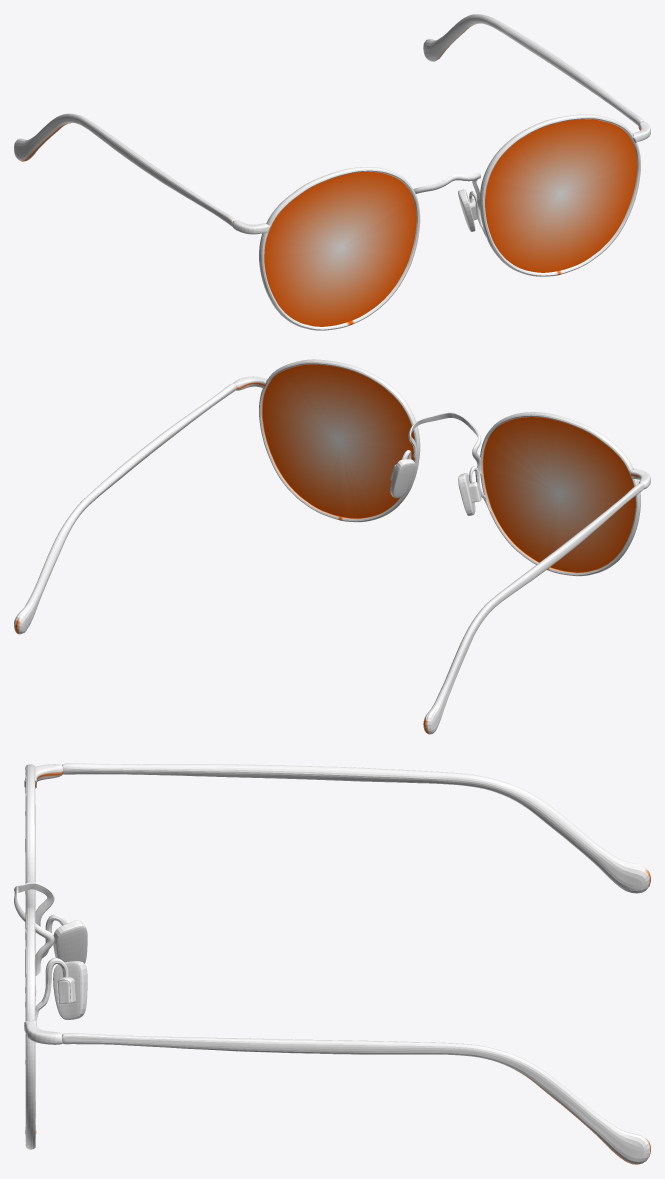
The model's file is glasses02.obj.
The picture shows the model from 3 angles, top to bottom: view 1: azimuth 30°, elevation 25°; view 2: azimuth 150°, elevation 25°; view 3: azimuth 270°, elevation 25°; orthographic projection. The views are drawn at different scales.
Parts seen in each view (by area): view 1: obj0, obj3, obj1, obj4, obj2, obj5; view 2: obj0, obj3, obj1, obj2, obj5, obj4; view 3: obj3, obj1, obj2, obj5, obj4.
Part boxes in pixels (left/top/right/bottom): obj0: left=264, top=119, right=637, bottom=326; obj3: left=14, top=14, right=643, bottom=226; obj1: left=259, top=114, right=640, bottom=330; obj4: left=232, top=121, right=650, bottom=234; obj2: left=458, top=189, right=485, bottom=236; obj5: left=413, top=173, right=480, bottom=210; obj0: left=262, top=364, right=635, bottom=572; obj3: left=14, top=383, right=644, bottom=734; obj1: left=259, top=359, right=640, bottom=576; obj2: left=390, top=450, right=490, bottom=515; obj5: left=408, top=412, right=481, bottom=473; obj4: left=233, top=376, right=650, bottom=489; obj3: left=62, top=763, right=650, bottom=1164; obj1: left=25, top=764, right=36, bottom=1149; obj2: left=35, top=914, right=87, bottom=1021; obj5: left=14, top=882, right=54, bottom=975; obj4: left=24, top=764, right=63, bottom=1044.
Bounding box in the file's own units: 75.3 × 26.8 × 72.86.
Materials: 6 (6 with a texture image).
